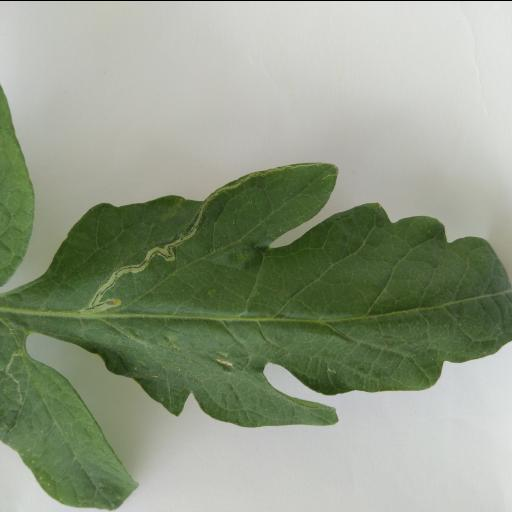disease_tomato: (34, 158, 512, 428)
